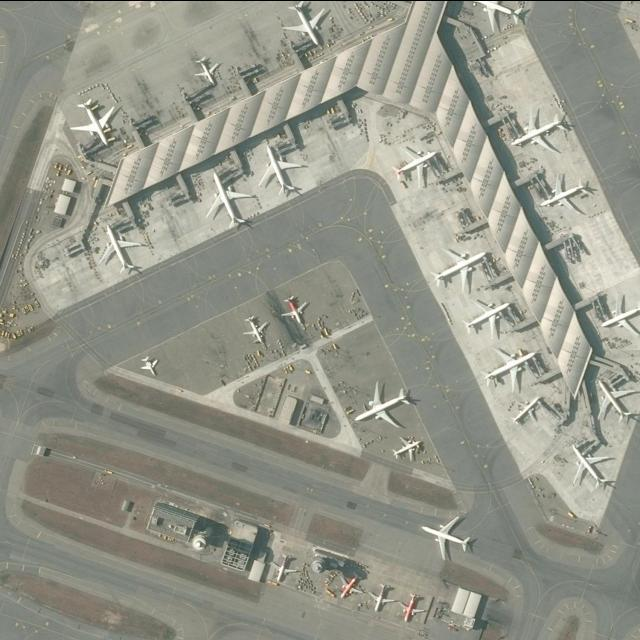Aircraft: (352, 381, 413, 433), (206, 168, 254, 231), (419, 513, 475, 565), (431, 246, 495, 291), (511, 107, 572, 153), (482, 345, 540, 393), (257, 141, 305, 197), (100, 223, 146, 277), (539, 174, 596, 217), (570, 445, 618, 495), (71, 97, 119, 147), (391, 144, 443, 189), (462, 296, 516, 339), (282, 1, 328, 49), (467, 0, 526, 37), (594, 378, 640, 424), (599, 294, 640, 337), (509, 393, 547, 433), (281, 292, 313, 328), (390, 437, 426, 463), (241, 313, 271, 344), (193, 57, 223, 88), (269, 554, 299, 584), (398, 592, 426, 623), (367, 582, 394, 613), (335, 573, 363, 602), (139, 352, 161, 378)
